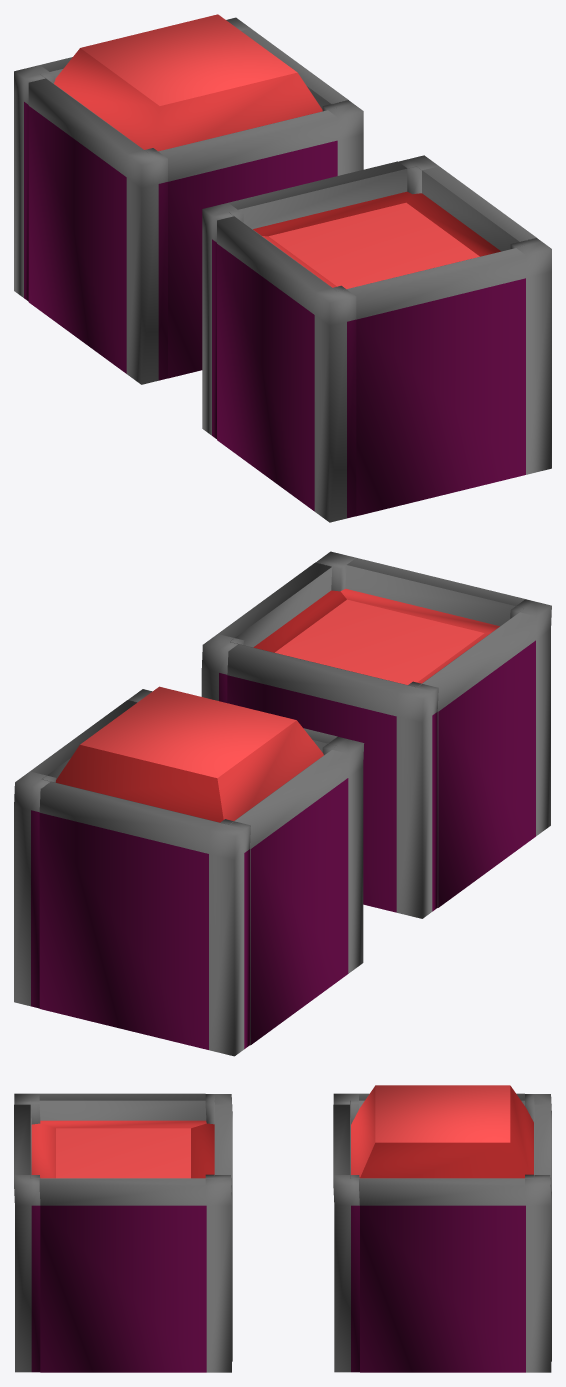
The model's file is Boton2.glb.
The picture shows the model from 3 angles, top to bottom: view 1: azimuth 30°, elevation 25°; view 2: azimuth 150°, elevation 25°; view 3: azimuth 270°, elevation 25°; orthographic projection. The views are drawn at different scales.
Parts seen in each view (by area): view 1: Presionado, SinPresionar; view 2: SinPresionar, Presionado; view 3: SinPresionar, Presionado.
Boxes of the visible parts, bbox=[...] form: Presionado: bbox=[202, 155, 551, 522]; SinPresionar: bbox=[14, 14, 363, 384]; SinPresionar: bbox=[14, 686, 364, 1056]; Presionado: bbox=[201, 551, 551, 918]; SinPresionar: bbox=[333, 1085, 551, 1372]; Presionado: bbox=[14, 1093, 232, 1372].
Size of what is drawn, in the model's own units: 2.37 by 2.55 by 5.84.
